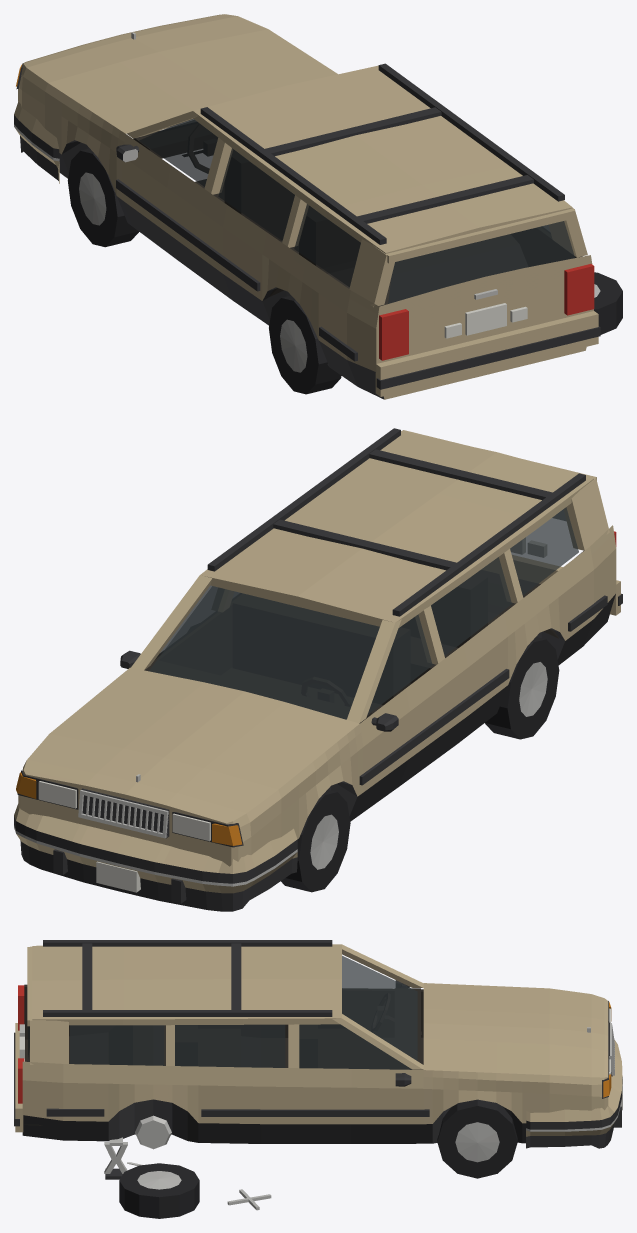
The model's file is broken-car.glb.
3 views of the same model, one above another, from view 1: azimuth 30°, elevation 25°; view 2: azimuth 150°, elevation 25°; view 3: azimuth 270°, elevation 25° (orthographic). The views are drawn at different scales.
Parts seen in each view (by area): view 1: BrokenCar, BrokenCarGlass; view 2: BrokenCar, BrokenCarGlass; view 3: BrokenCar, BrokenCarGlass.
Boxes of the visible parts, bbox=[...] form: BrokenCar: bbox=[14, 14, 622, 399]; BrokenCarGlass: bbox=[139, 118, 574, 303]; BrokenCar: bbox=[14, 428, 622, 911]; BrokenCarGlass: bbox=[149, 507, 578, 719]; BrokenCar: bbox=[14, 940, 622, 1218]; BrokenCarGlass: bbox=[28, 955, 417, 1069].
Bounding box in the file's own units: 2.69 × 1.46 × 5.07.
